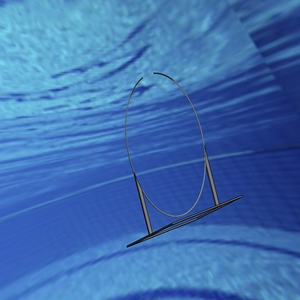circle: (121, 69, 243, 246)
